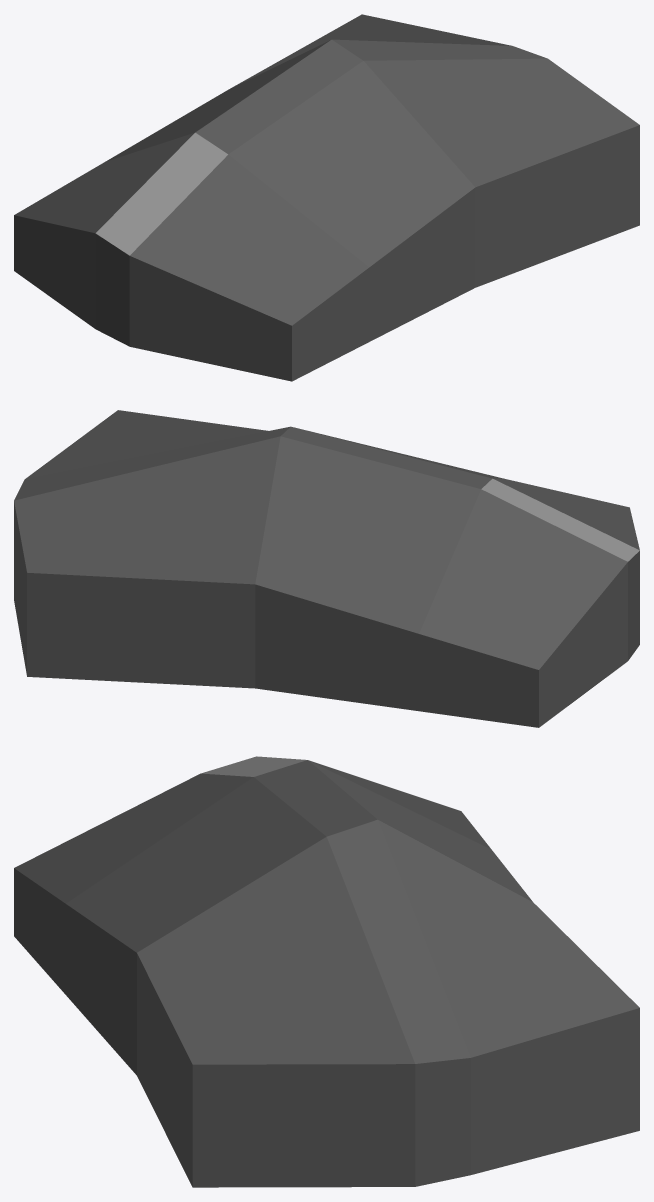
File: Mouse_2.fbx
3 views of the same model, one above another, from view 1: azimuth 30°, elevation 25°; view 2: azimuth 150°, elevation 25°; view 3: azimuth 270°, elevation 25° (orthographic). The views are drawn at different scales.
Parts seen in each view (by area): view 1: Mouse_2; view 2: Mouse_2; view 3: Mouse_2.
Part boxes in pixels (x1,y1,x2,y2): Mouse_2: (14, 14, 639, 381); Mouse_2: (14, 410, 639, 727); Mouse_2: (14, 756, 639, 1187).
Size of the model in its own units: 19.01 by 16.25 by 6.56.
